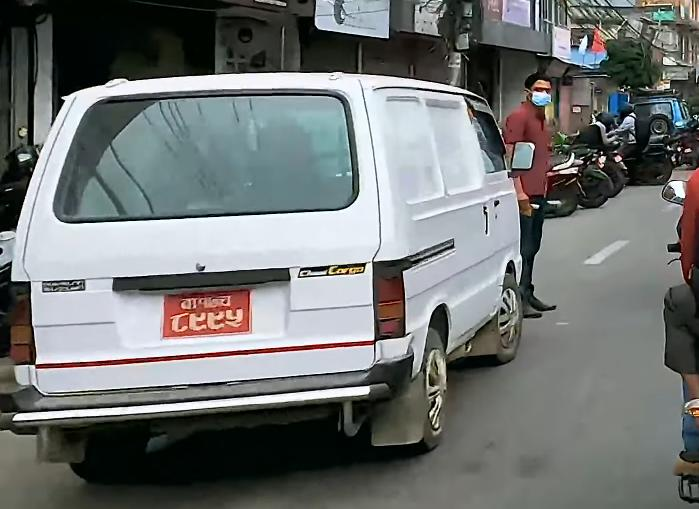van: (0, 66, 539, 483)
